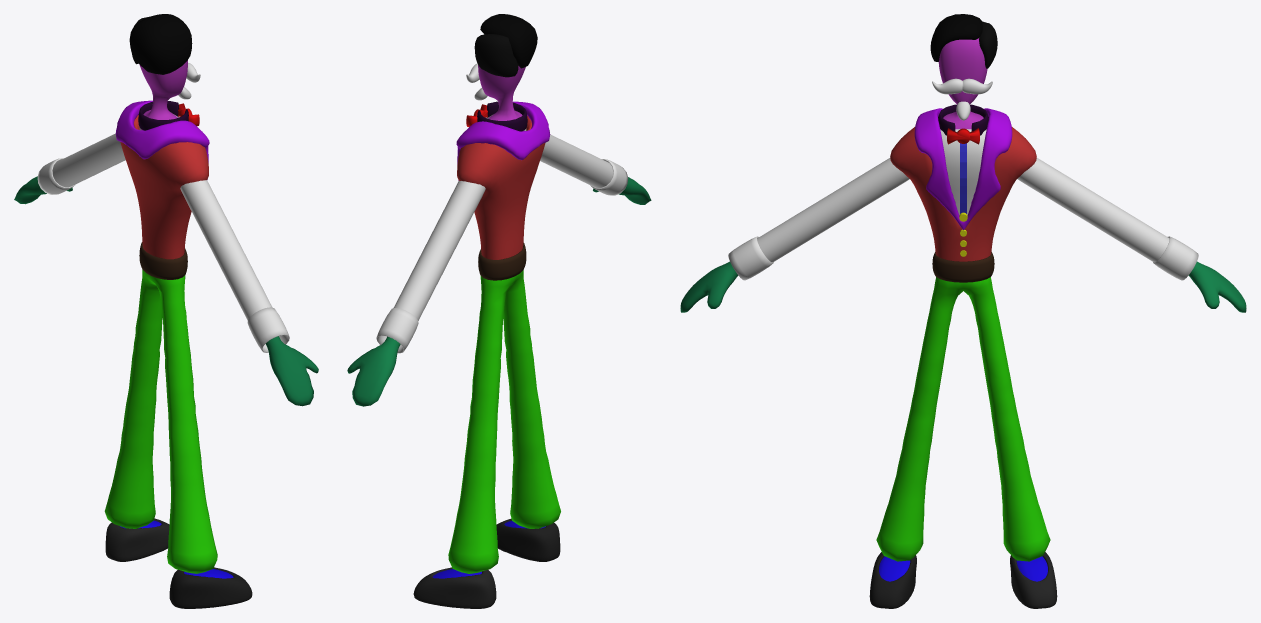
Rendered from recepcionista_junt.fbx.
The picture shows the model from 3 angles, left to right: view 1: azimuth 30°, elevation 25°; view 2: azimuth 150°, elevation 25°; view 3: azimuth 270°, elevation 25°; orthographic projection.
Visible parts, largest first — view 1: peus; view 2: peus; view 3: peus.
Boxes of the visible parts, box(x1,y1,x2,y2) form: peus: box(14, 14, 318, 608); peus: box(347, 14, 651, 608); peus: box(680, 14, 1246, 608).
Bounding box in the file's own units: 12.69 × 79.06 × 71.47.
